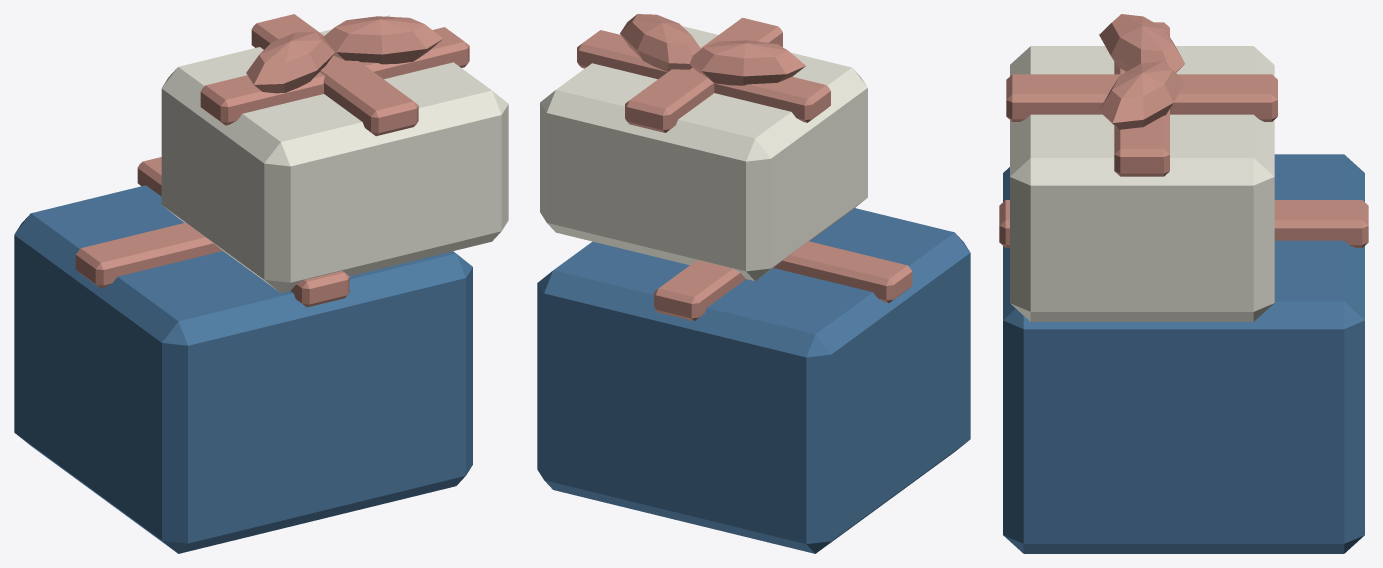
Rendered from gift_box_stack.glb.
The picture shows the model from 3 angles, left to right: view 1: azimuth 30°, elevation 25°; view 2: azimuth 150°, elevation 25°; view 3: azimuth 270°, elevation 25°; orthographic projection. The views are drawn at different scales.
Parts seen in each view (by area): view 1: gift_box (×2), ribbon_x (×2), ribbon_z (×2), ribbon_bow (×2); view 2: gift_box (×2), ribbon_x (×2), ribbon_z (×2), ribbon_bow (×2); view 3: gift_box (×2), ribbon_z (×2), ribbon_bow (×2), ribbon_x.
Boxes of the visible parts, x1,y1,x2,y2 form: gift_box (×2): (14,15,508,553); ribbon_x (×2): (75,27,469,288); ribbon_z (×2): (137,14,418,307); ribbon_bow (×2): (246,16,443,93); gift_box (×2): (537,26,970,553); ribbon_x (×2): (577,30,912,303); ribbon_z (×2): (625,17,782,321); ribbon_bow (×2): (620,14,805,85); gift_box (×2): (1003,46,1364,553); ribbon_z (×2): (999,74,1368,247); ribbon_bow (×2): (1099,14,1184,129); ribbon_x: (1114,22,1169,176).
Bounding box in the file's own units: 0.319 × 0.3715 × 0.265.
